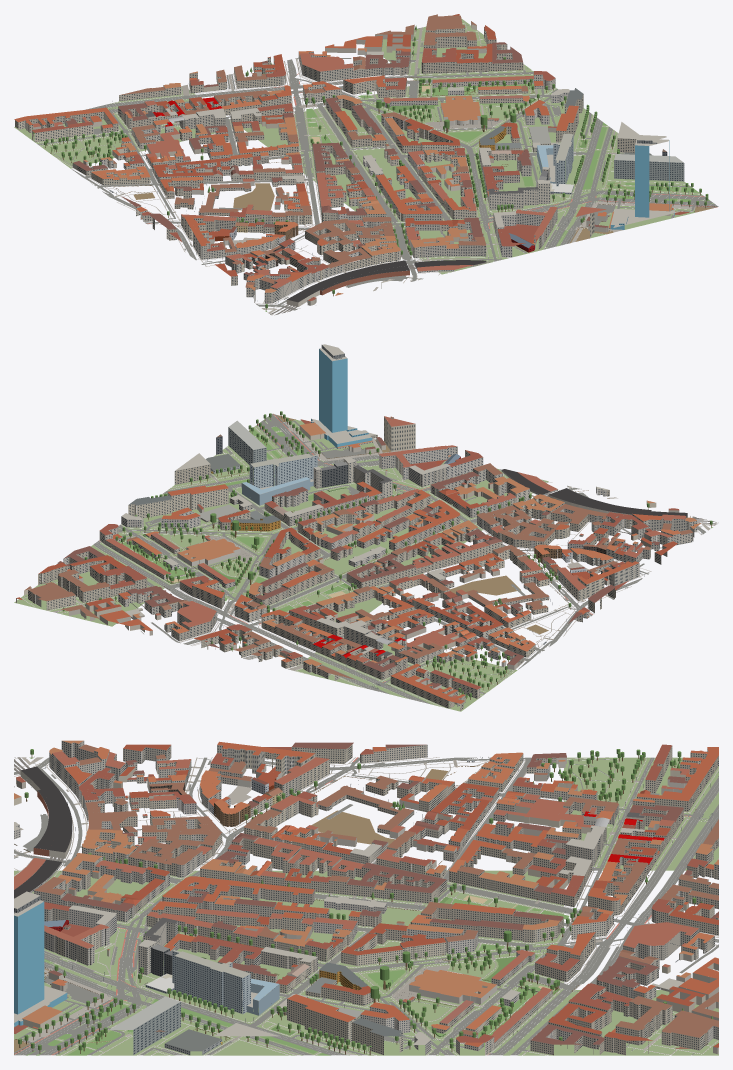
The picture shows the model from 3 angles, top to bottom: view 1: azimuth 30°, elevation 25°; view 2: azimuth 150°, elevation 25°; view 3: azimuth 270°, elevation 25°; orthographic projection. The views are drawn at different scales.
Bounding box in the file's own units: 750 × 132 × 750.
3 materials, 1 textured.
